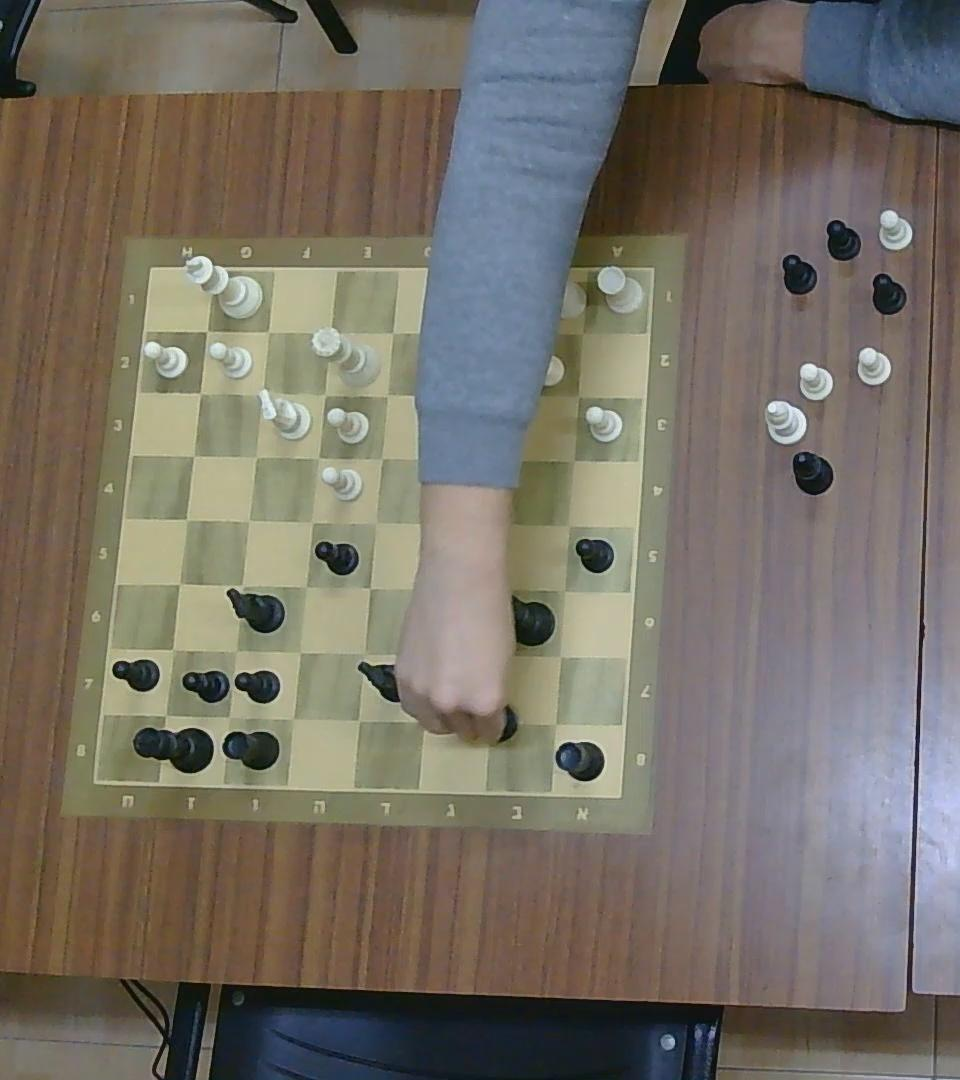xcorner: (487, 510, 516, 539), (493, 444, 522, 473), (429, 382, 459, 410), (542, 709, 570, 738), (410, 707, 438, 736), (475, 709, 503, 738), (568, 318, 596, 346), (345, 704, 372, 733), (479, 642, 507, 669), (413, 643, 439, 672), (152, 700, 179, 727), (279, 703, 305, 731), (160, 635, 185, 664), (215, 703, 241, 730), (547, 641, 573, 668), (379, 318, 405, 345), (374, 381, 400, 408), (427, 443, 453, 470), (286, 637, 311, 665), (415, 576, 440, 604), (443, 318, 468, 346), (222, 636, 247, 663), (565, 381, 590, 408), (355, 573, 380, 600), (508, 379, 533, 406), (510, 318, 534, 346), (228, 572, 253, 598), (348, 640, 374, 665), (551, 577, 576, 603), (311, 380, 336, 406), (562, 445, 586, 472), (420, 511, 444, 538), (167, 571, 192, 596), (305, 444, 330, 469), (174, 506, 198, 532), (318, 319, 342, 345), (235, 507, 259, 532), (244, 444, 268, 469), (557, 512, 581, 537), (195, 318, 219, 343), (250, 380, 274, 405), (300, 508, 323, 534), (483, 580, 506, 606), (294, 574, 317, 599), (362, 510, 385, 535), (257, 318, 280, 343), (188, 380, 211, 405), (181, 443, 204, 467), (369, 445, 391, 469)
